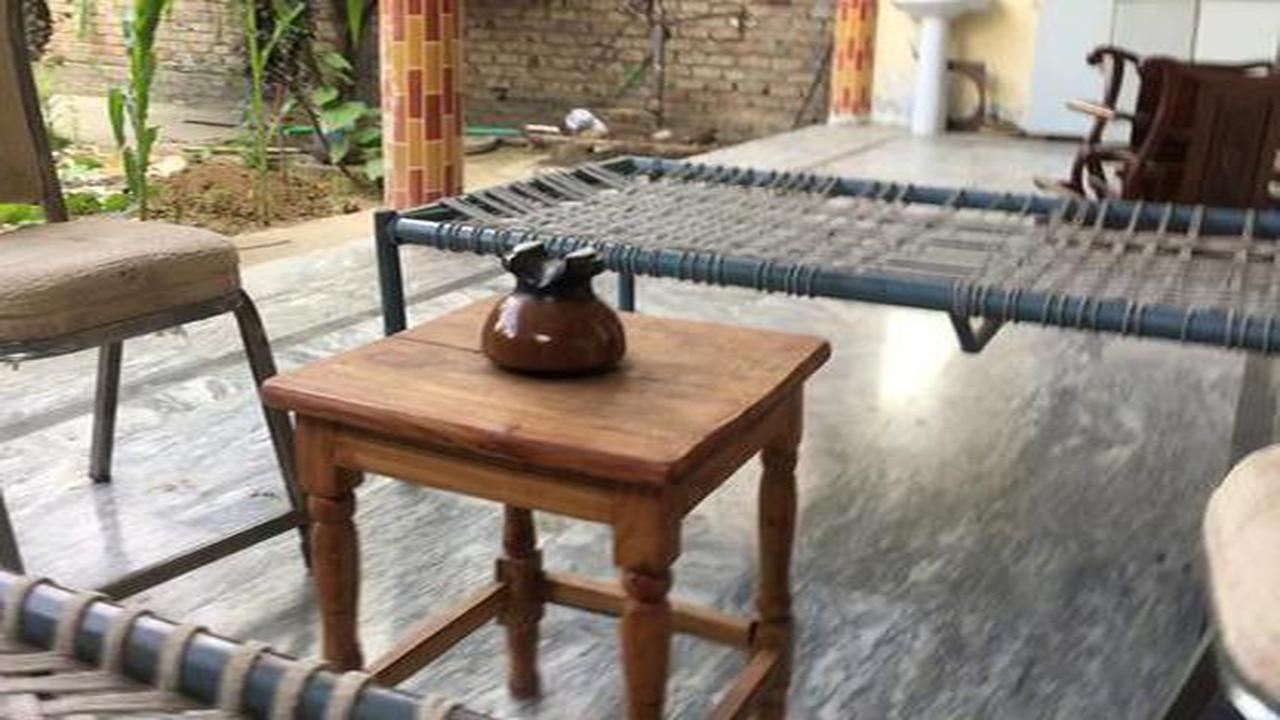insulator_pin: (459, 226, 647, 392)
